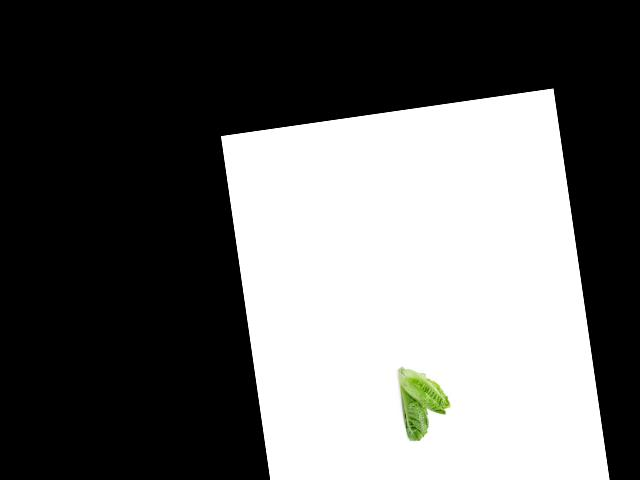lettuce: (394, 379, 433, 447)
